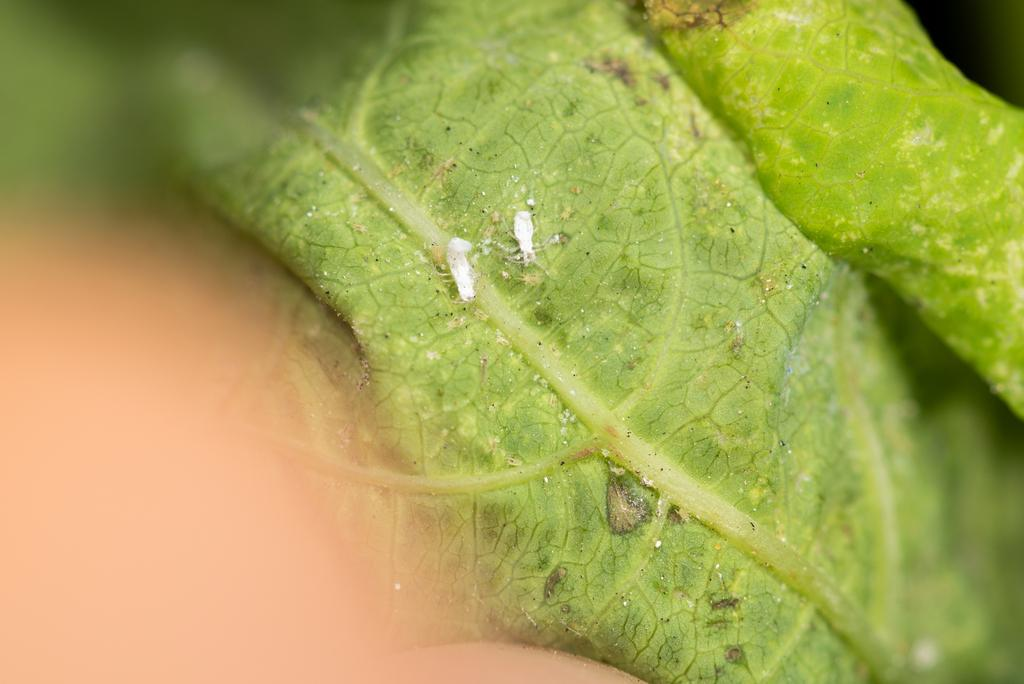tiny_pests: (487, 191, 573, 293), (415, 214, 493, 316)
